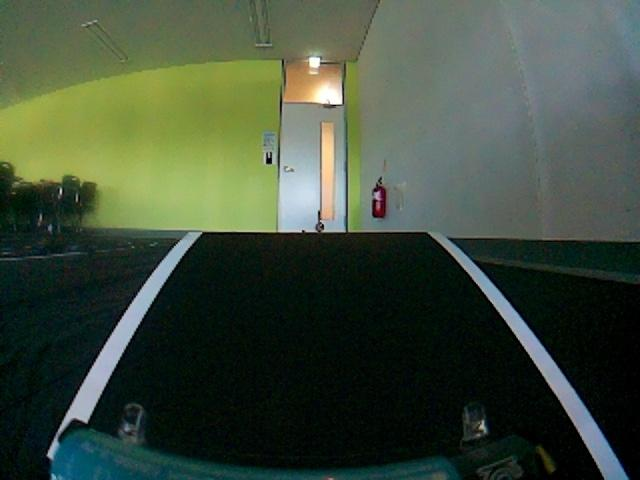hill_up: (35, 224, 625, 480)
